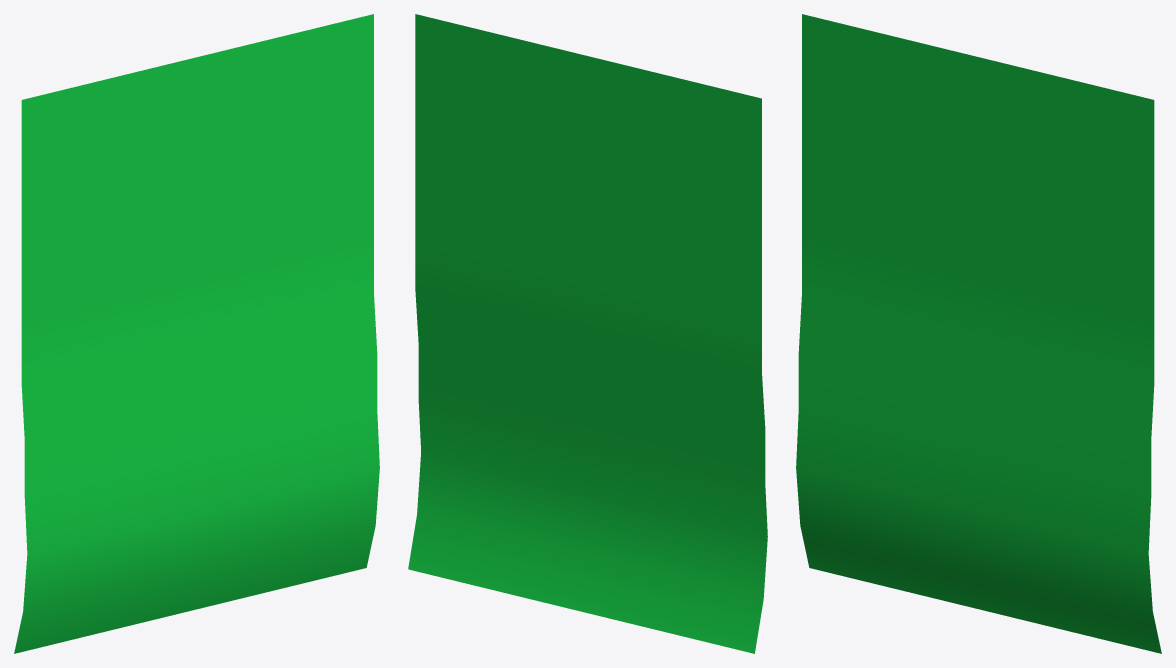
Rendered from Poster03_mesh.fbx.
3 views of the same model, side by side, from view 1: azimuth 30°, elevation 25°; view 2: azimuth 150°, elevation 25°; view 3: azimuth 330°, elevation 25° (orthographic).
Parts seen in each view (by area): view 1: Poster03_mesh; view 2: Poster03_mesh; view 3: Poster03_mesh.
Part boxes in pixels (<box>): Poster03_mesh: <box>14,14,379,653</box>; Poster03_mesh: <box>408,14,767,653</box>; Poster03_mesh: <box>796,14,1161,653</box>.
Size of the model in its own units: 398 by 603 by 25.91.
